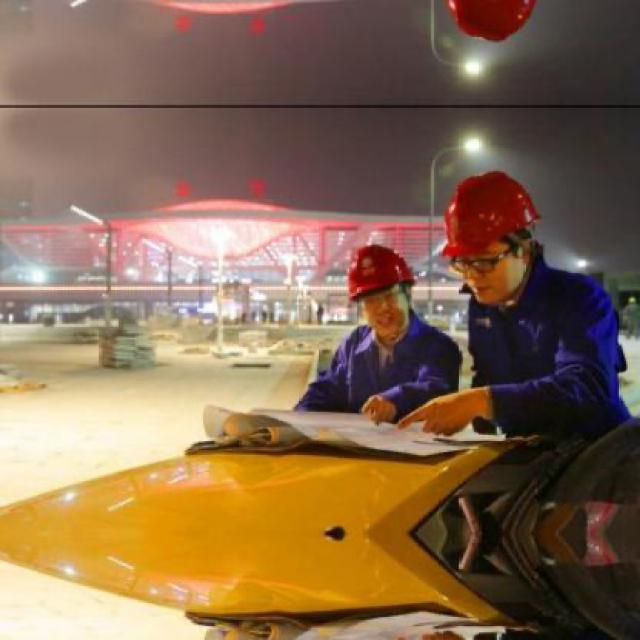helmet: (437, 160, 551, 298), (340, 240, 418, 338), (435, 0, 551, 54)
